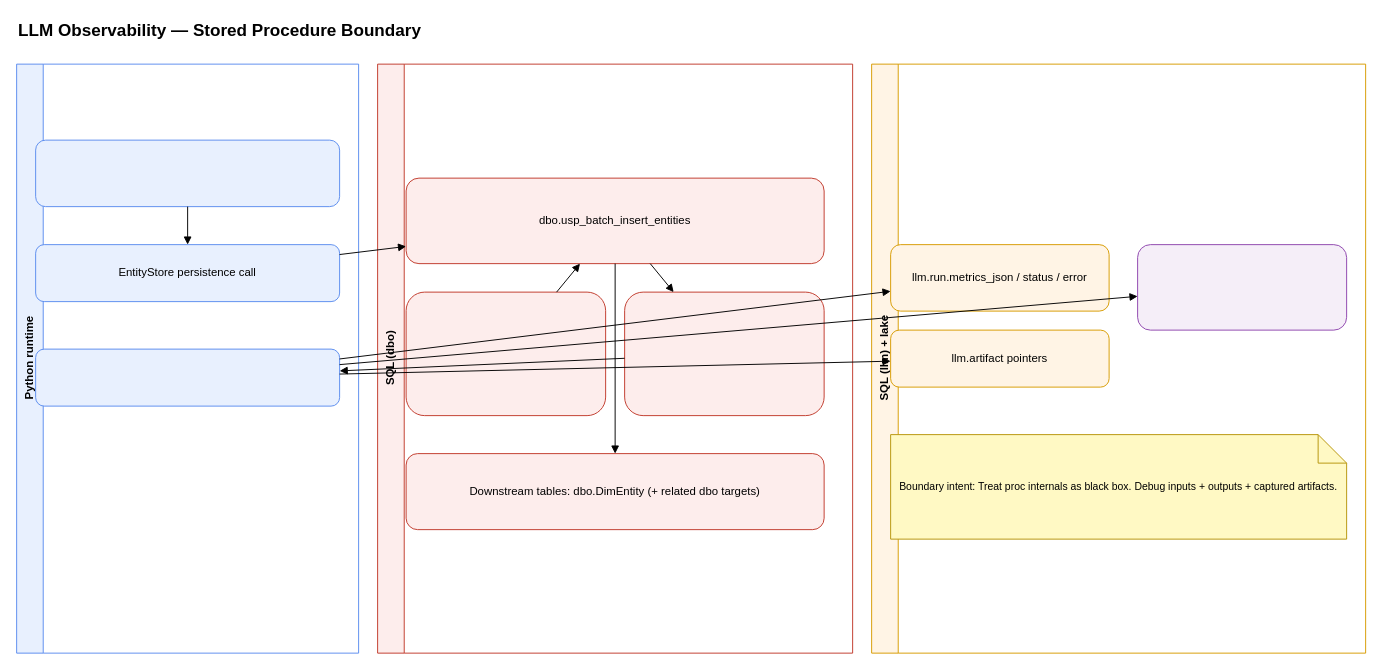
Image size: 1382x670. Some labels were removed from this diagram. Each missing label, with the centre of its shape:
Finalize run: the point at 187,377
Inputs: @entities_json @run_id @job_id @source_page_id: the point at 505,353
lake result.json lake output.json: the point at 1242,287
Outputs: summary counts per-entity processing_status: the point at 724,353
Validated contract payload (output.json entities[]): the point at 187,173
